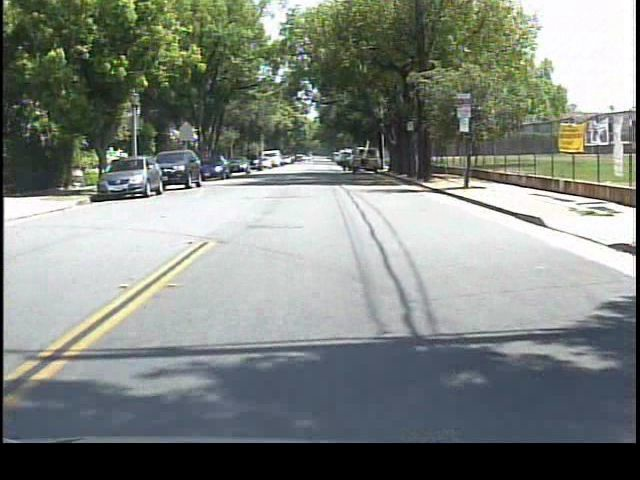person: (337, 149, 352, 175)
